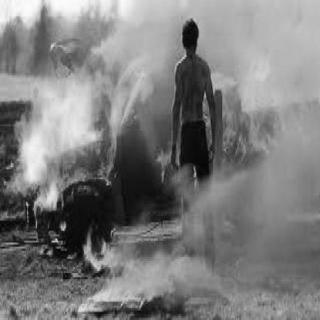Fire: (57, 219, 67, 229)
